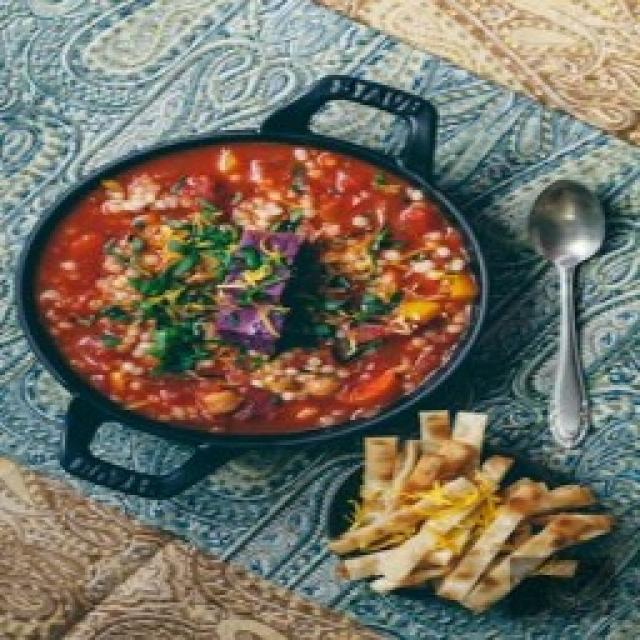Chakchouka: (18, 132, 490, 442)
